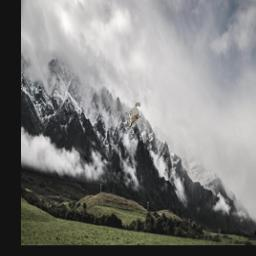Cuckoo: (125, 103, 140, 134)
